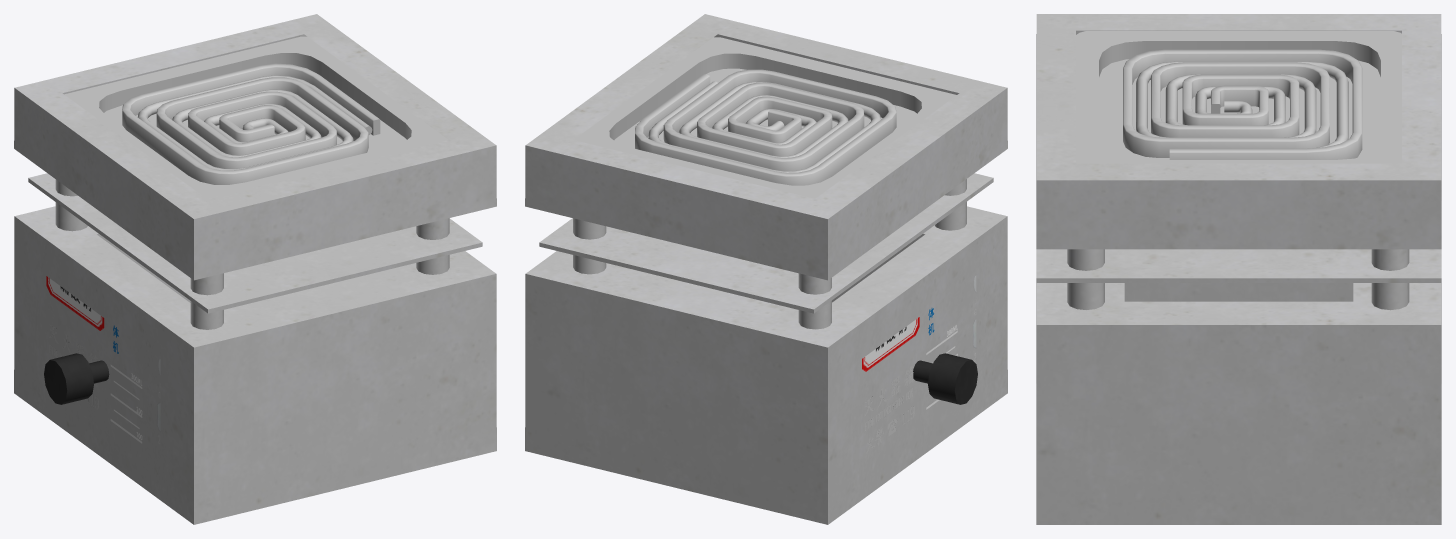
The picture shows the model from 3 angles, left to right: view 1: azimuth 30°, elevation 25°; view 2: azimuth 150°, elevation 25°; view 3: azimuth 270°, elevation 25°; orthographic projection. The views are drawn at different scales.
Visible parts, largest first — view 1: SM_电炉; view 2: SM_电炉; view 3: SM_电炉.
Part boxes in pixels (left/top/right/bottom): SM_电炉: left=14, top=14, right=496, bottom=524; SM_电炉: left=525, top=14, right=1007, bottom=524; SM_电炉: left=1036, top=14, right=1441, bottom=524.
Bounding box in the file's own units: 0.1945 × 0.1617 × 0.1725.
